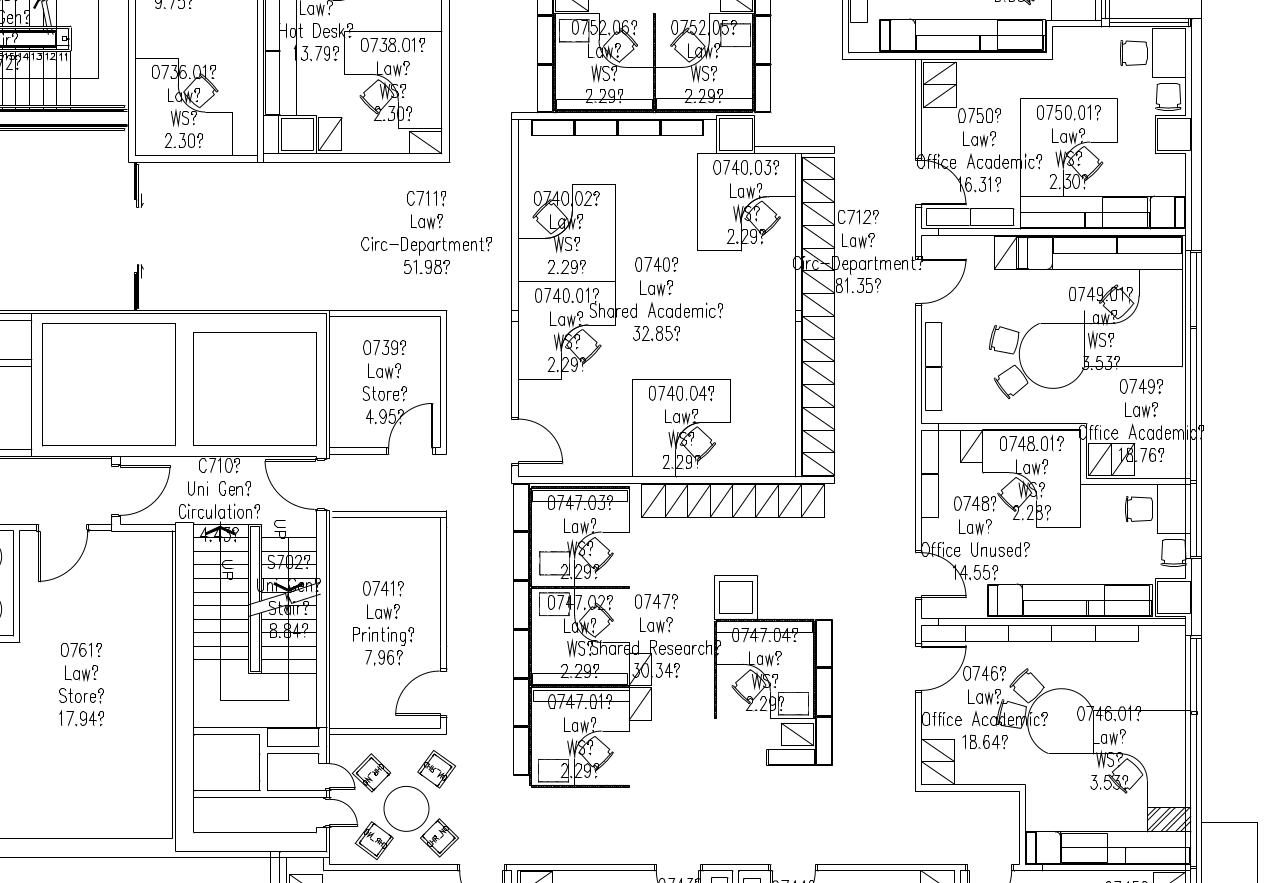door: (29, 524, 95, 590), (111, 459, 174, 521), (257, 457, 320, 519), (913, 643, 967, 697), (917, 547, 971, 601), (915, 251, 969, 305), (916, 153, 970, 207), (383, 400, 437, 453), (512, 415, 566, 468), (387, 667, 441, 720), (324, 755, 359, 797), (324, 790, 359, 832)
